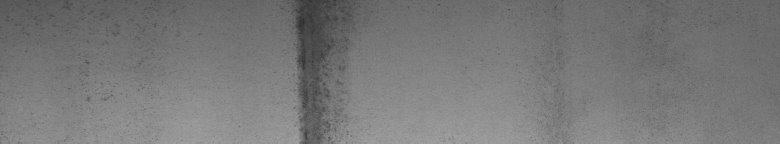hd: (280, 4, 353, 136)
